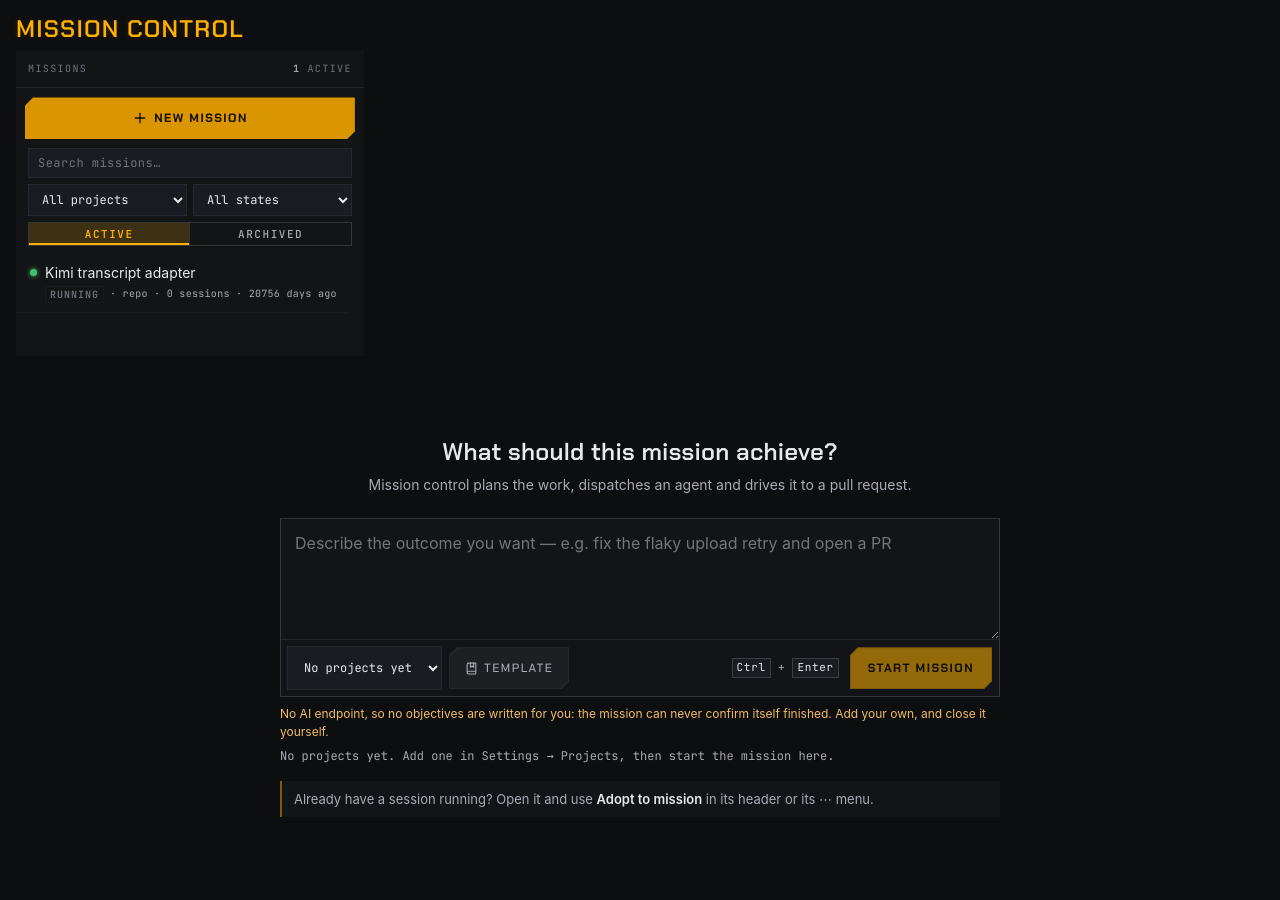
Scenario: with no AI endpoint the composer is disabled and the notice says what is off (#878)
The image size is (1280, 900).
Click the text "Kimi transcript adapter" at coordinates (120, 273), box [45,264,196,281]
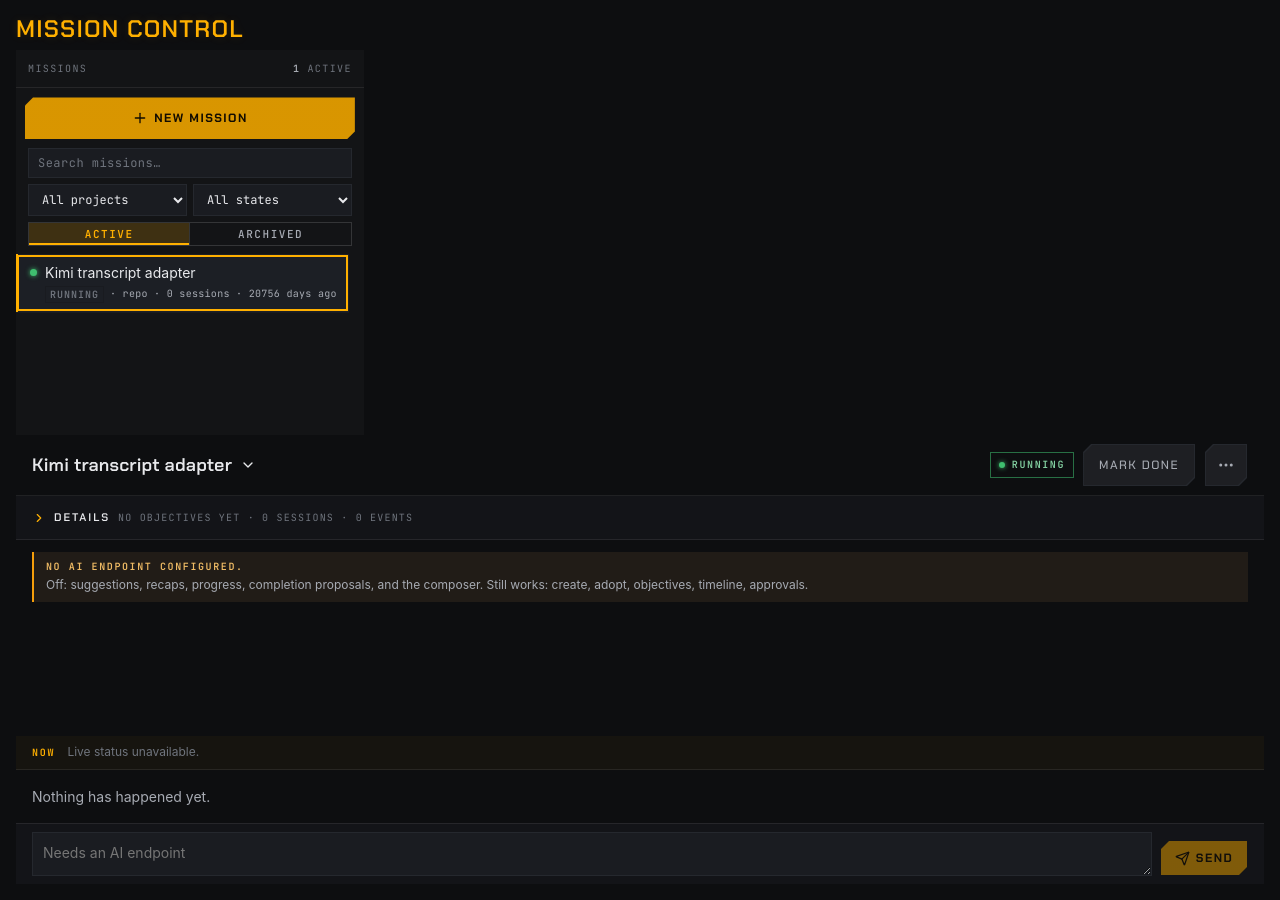
Expected: the element with test id "no-ai-notice" shows "and the composer", [46,577,808,592]
Expected: the text box with test id "composer-input" is disabled, [32,832,1152,876]
Expected: the button with test id "composer-send" is disabled, [1160,840,1248,876]
